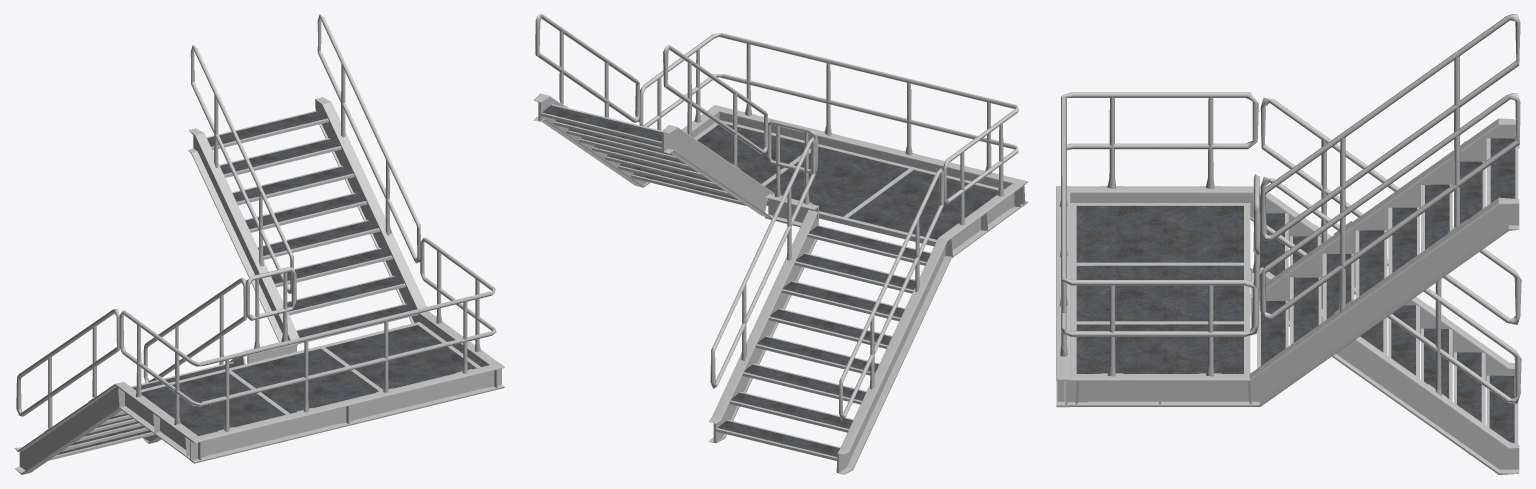
File: SM_Staircase_01.fbx
3 views of the same model, side by side, from view 1: azimuth 30°, elevation 25°; view 2: azimuth 150°, elevation 25°; view 3: azimuth 270°, elevation 25° (orthographic). The views are drawn at different scales.
Visible parts, largest first — view 1: SM_Staircase_01_LOD0; view 2: SM_Staircase_01_LOD0; view 3: SM_Staircase_01_LOD0.
Part boxes in pixels (box(x1,y1,x2,y2)): SM_Staircase_01_LOD0: box(14, 14, 504, 474); SM_Staircase_01_LOD0: box(533, 14, 1027, 474); SM_Staircase_01_LOD0: box(1056, 14, 1521, 474).
Size of the model in its own units: 453 by 459 by 531.
